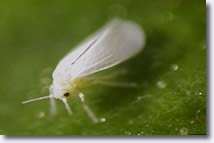whitefly: (22, 16, 148, 121)
